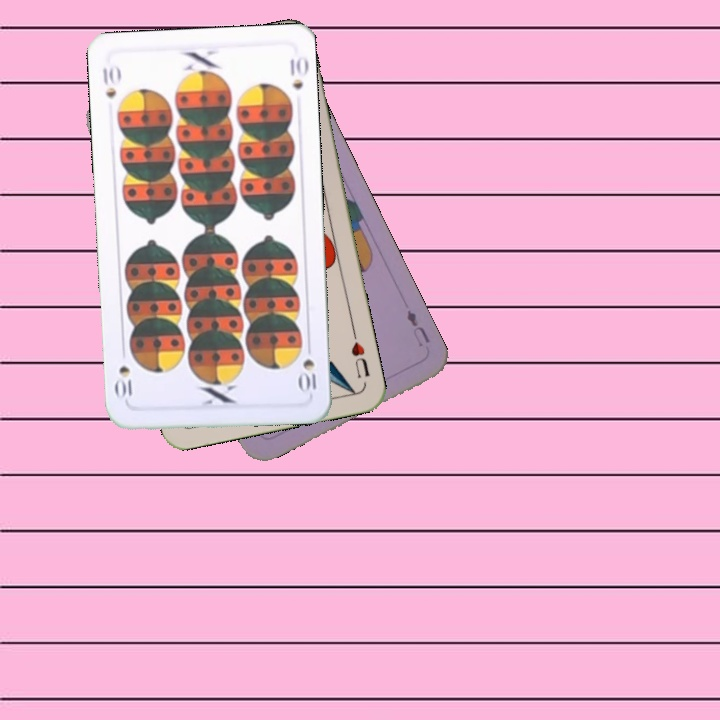EU: (402, 305, 433, 346)
HU: (347, 327, 373, 381)
S10: (296, 355, 320, 396), (99, 60, 123, 101)
